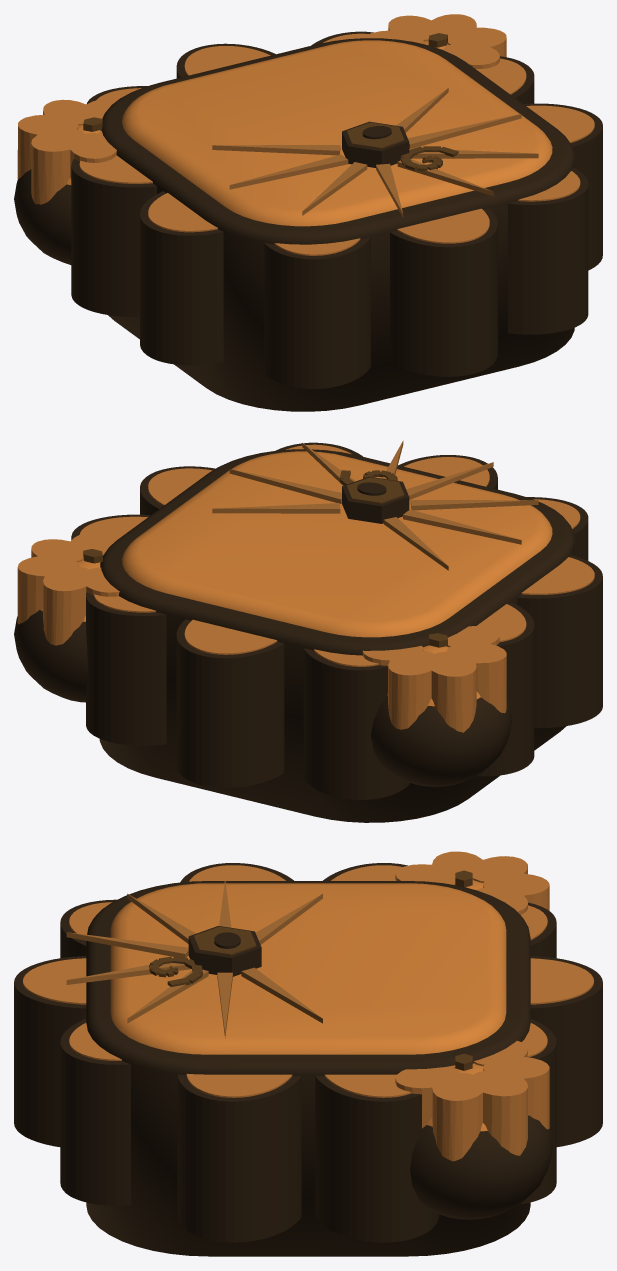
Rendered from body_abobora.fbx.
The picture shows the model from 3 angles, top to bottom: view 1: azimuth 30°, elevation 25°; view 2: azimuth 150°, elevation 25°; view 3: azimuth 270°, elevation 25°; orthographic projection. The views are drawn at different scales.
Visible parts, largest first — view 1: body_abobora_corpo, body_abobora_mao_esq, body_abobora_mao; view 2: body_abobora_corpo, body_abobora_mao_esq, body_abobora_mao; view 3: body_abobora_corpo, body_abobora_mao, body_abobora_mao_esq.
Boxes of the visible parts, <box> form: body_abobora_corpo: <box>71,31,602,411</box>; body_abobora_mao_esq: <box>14,98,118,264</box>; body_abobora_mao: <box>363,14,506,68</box>; body_abobora_corpo: <box>71,440,602,822</box>; body_abobora_mao_esq: <box>362,626,512,786</box>; body_abobora_mao: <box>14,532,119,702</box>; body_abobora_corpo: <box>14,863,602,1256</box>; body_abobora_mao: <box>395,1041,552,1219</box>; body_abobora_mao_esq: <box>395,851,549,914</box>.
Size of the model in its own units: 5.4 by 2.23 by 5.3.
Materials: 1 (1 with a texture image).
